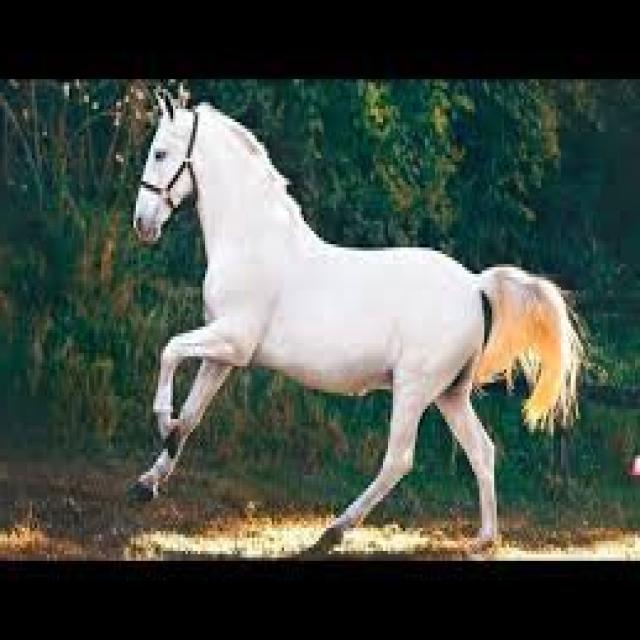horse: (136, 92, 583, 541)
